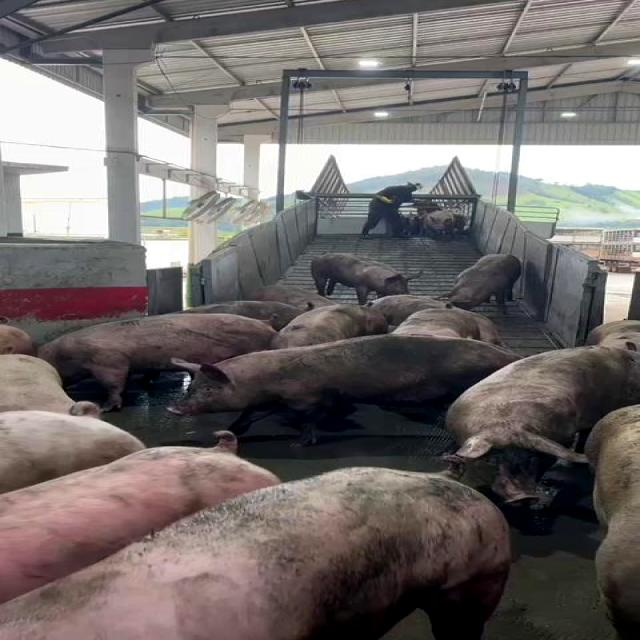pig: (2, 468, 511, 640), (0, 431, 282, 601), (167, 334, 520, 444), (447, 320, 639, 504), (39, 314, 277, 411), (584, 405, 640, 639), (1, 410, 144, 493), (0, 354, 99, 417), (270, 305, 387, 348), (312, 254, 412, 303), (442, 254, 522, 313), (392, 308, 504, 346), (181, 301, 305, 329), (367, 295, 451, 326)
